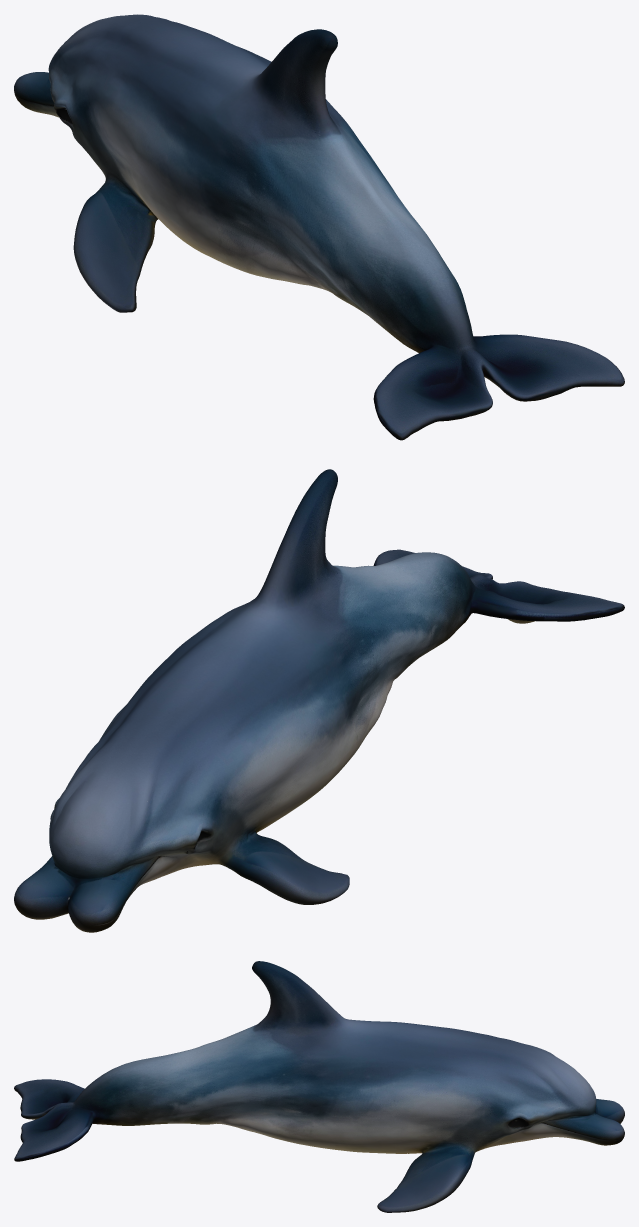
Rendered from dolphin.glb.
3 renders of one model, top to bottom at view 1: azimuth 30°, elevation 25°; view 2: azimuth 150°, elevation 25°; view 3: azimuth 270°, elevation 25°, orthographic. The views are drawn at different scales.
Visible parts, largest first — view 1: tripo_node_bcec518c-f3c7-4eff-93d6-273616e2f5d1; view 2: tripo_node_bcec518c-f3c7-4eff-93d6-273616e2f5d1; view 3: tripo_node_bcec518c-f3c7-4eff-93d6-273616e2f5d1.
Boxes of the visible parts, x1,y1,x2,y2 form: tripo_node_bcec518c-f3c7-4eff-93d6-273616e2f5d1: (14, 14, 624, 440); tripo_node_bcec518c-f3c7-4eff-93d6-273616e2f5d1: (14, 469, 624, 932); tripo_node_bcec518c-f3c7-4eff-93d6-273616e2f5d1: (14, 961, 624, 1212).
Bounding box in the file's own units: 0.2991 × 0.3878 × 1.
1 material, 1 textured.
